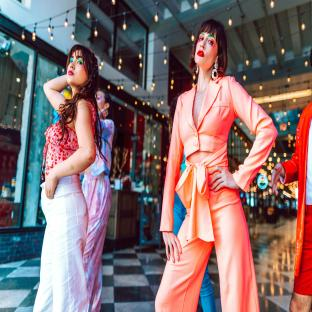Human: (155, 19, 277, 312), (33, 45, 101, 312), (271, 102, 312, 312)
